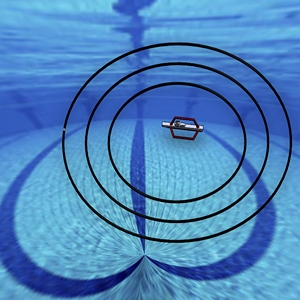circle: (58, 31, 295, 249)
submarine: (158, 103, 208, 153)
